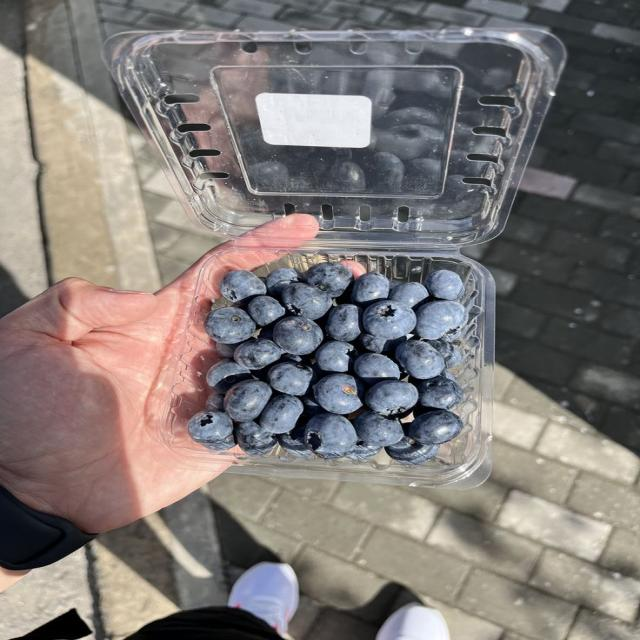blueberry: (376, 124, 440, 160), (305, 413, 357, 457), (363, 301, 415, 339), (224, 380, 271, 422), (407, 409, 462, 444), (396, 340, 445, 379), (416, 301, 466, 339), (314, 374, 361, 414), (366, 380, 418, 416), (274, 316, 323, 354), (281, 283, 332, 319), (354, 411, 404, 447), (205, 307, 255, 343), (260, 395, 303, 433), (306, 263, 353, 297), (363, 70, 395, 119), (417, 376, 463, 409), (268, 362, 312, 396), (234, 338, 282, 369), (187, 411, 233, 443), (386, 438, 439, 465), (220, 271, 266, 302), (354, 353, 399, 384), (235, 421, 277, 454), (207, 361, 251, 392), (315, 341, 358, 372), (372, 152, 404, 193), (403, 158, 440, 193), (327, 305, 361, 341), (248, 161, 288, 191), (380, 107, 439, 127), (277, 425, 313, 457), (352, 274, 389, 305), (426, 270, 464, 300), (247, 296, 285, 326), (329, 162, 366, 191), (389, 282, 428, 308), (428, 340, 463, 367), (267, 268, 300, 296), (360, 334, 406, 353), (322, 70, 353, 95), (346, 442, 381, 459), (200, 434, 236, 450), (302, 396, 325, 417), (441, 326, 465, 343), (206, 389, 224, 411), (216, 343, 237, 358), (254, 326, 273, 341), (281, 353, 303, 364), (390, 280, 401, 292)
